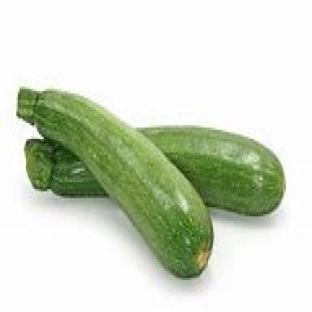Zucchini: (18, 89, 212, 277), (140, 128, 284, 216)
